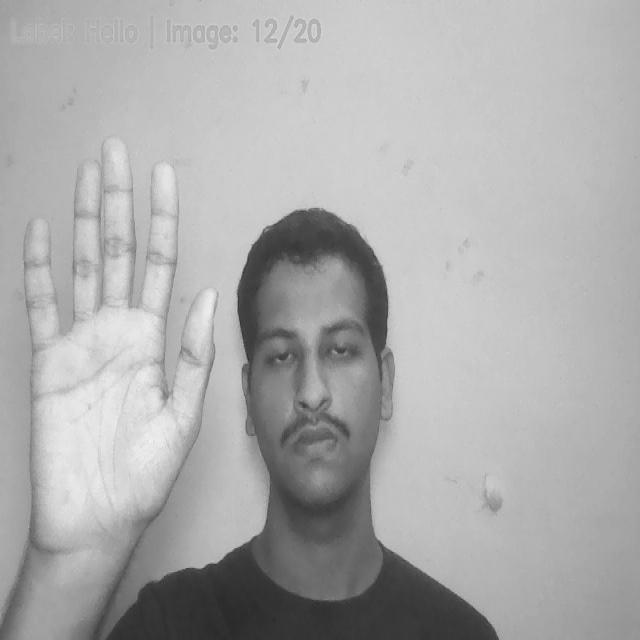Hello: (32, 138, 216, 525)
